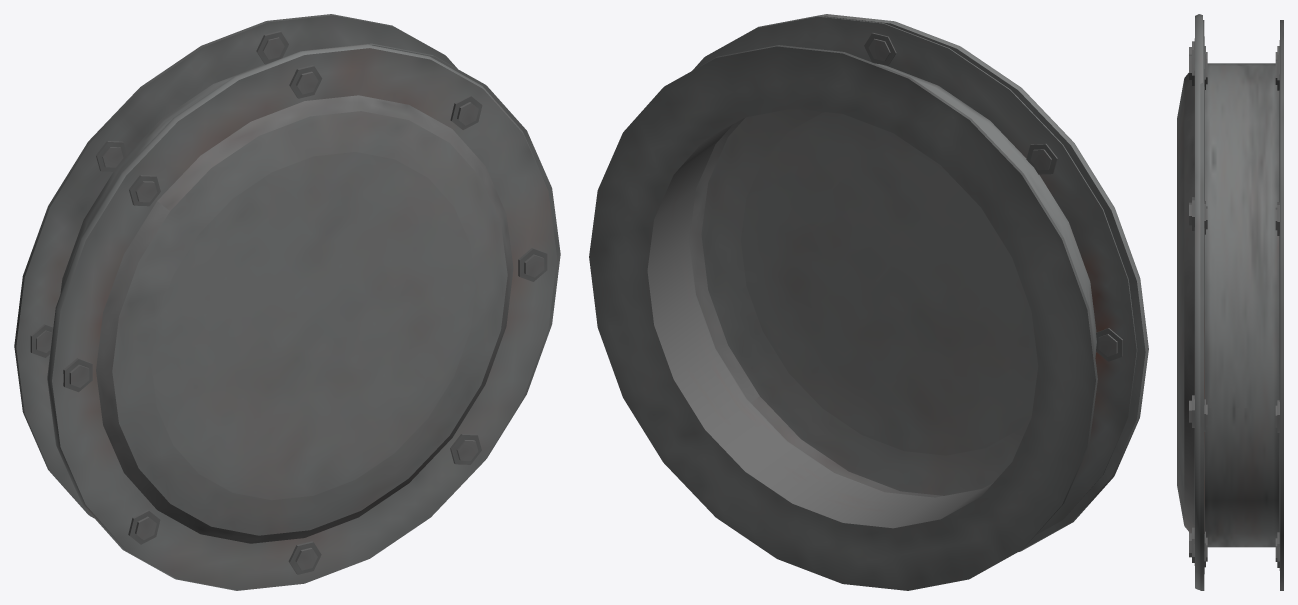
3 renders of one model, left to right at view 1: azimuth 30°, elevation 25°; view 2: azimuth 150°, elevation 25°; view 3: azimuth 270°, elevation 25°, orthographic. The views are drawn at different scales.
Visible parts, largest first — view 1: Pipe_Straight1; view 2: Pipe_Straight1; view 3: Pipe_Straight1.
Boxes of the visible parts, <box> form: Pipe_Straight1: <box>14,14,560,590</box>; Pipe_Straight1: <box>589,14,1148,590</box>; Pipe_Straight1: <box>1177,14,1283,590</box>.
Bounding box in the file's own units: 7.7 × 7.63 × 1.41.
1 material, 1 textured.
